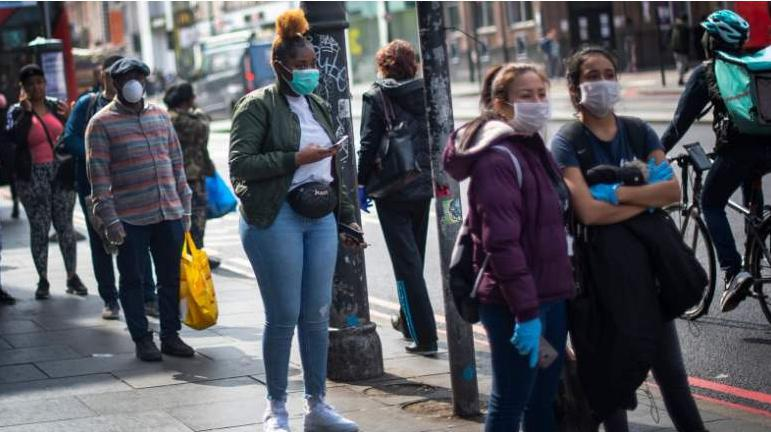NONE: (25, 76, 45, 103)
OK: (579, 66, 620, 115), (511, 84, 549, 135), (288, 51, 320, 95), (121, 74, 147, 103)
